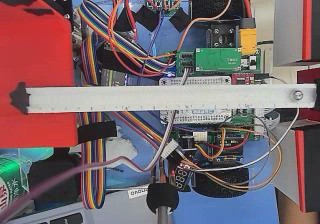ironball: (291, 90, 303, 100)
